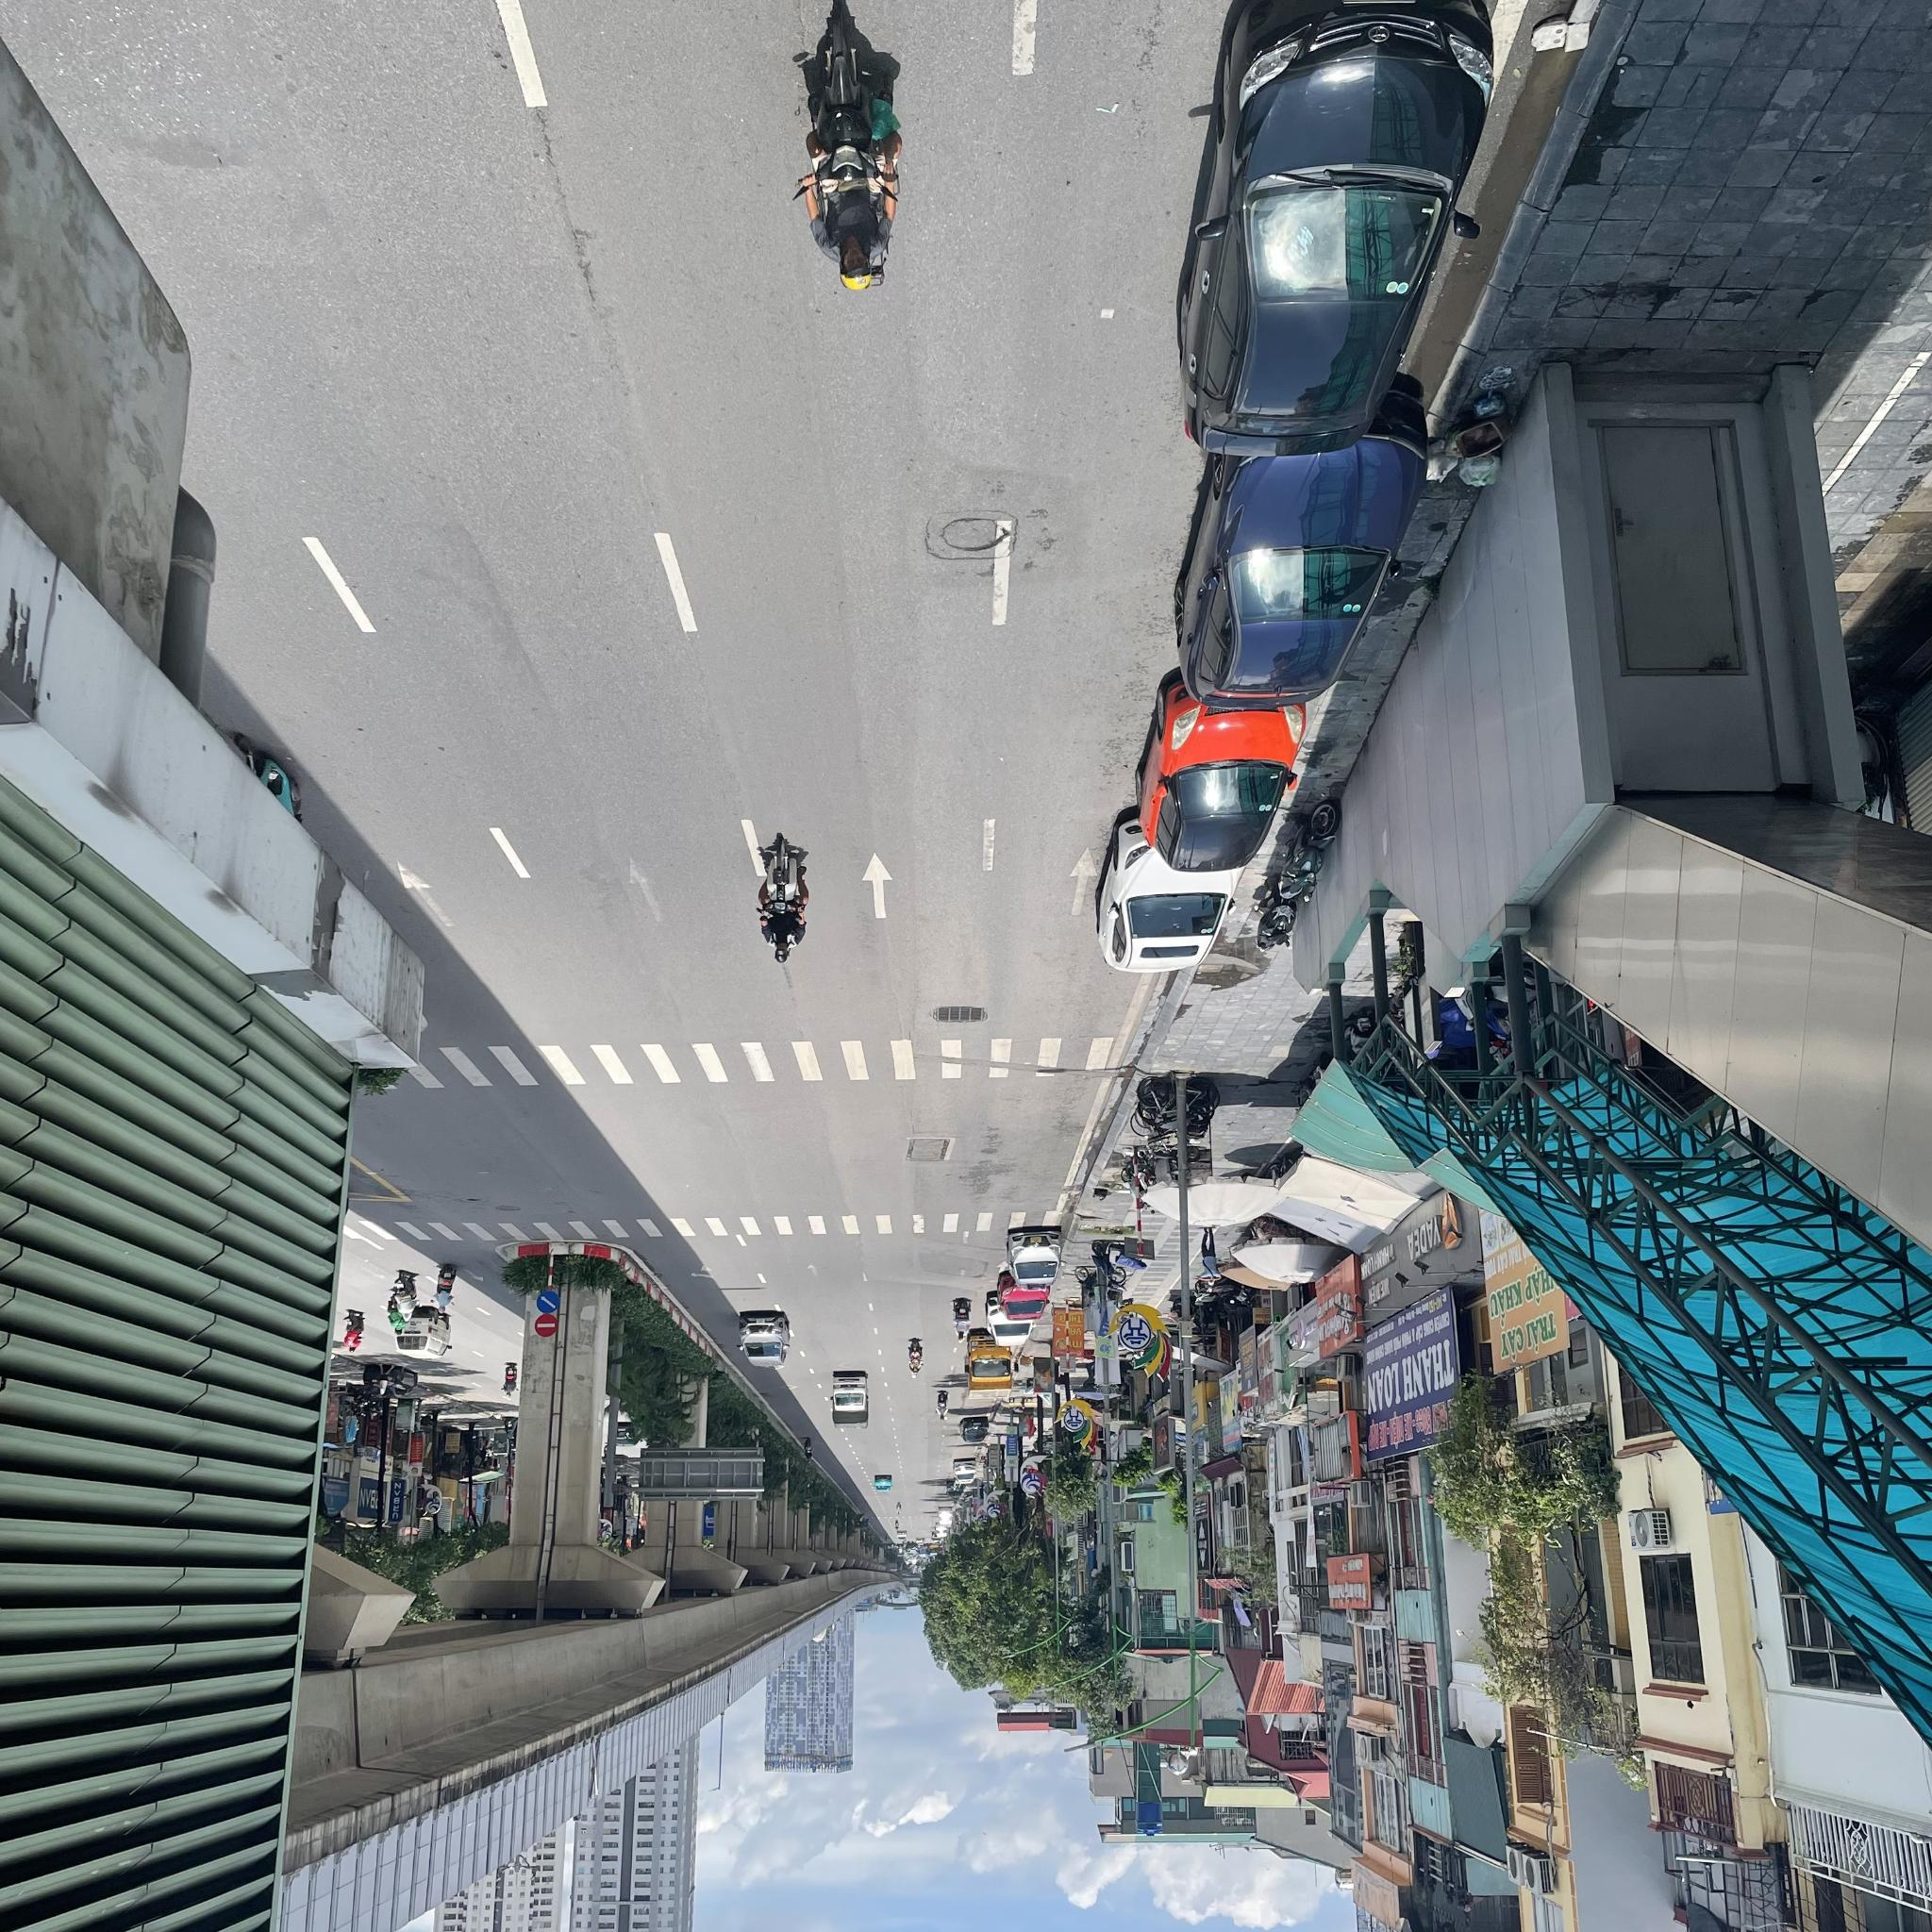car: (1175, 11, 1502, 432), (1182, 386, 1435, 708), (1138, 683, 1300, 869), (1100, 823, 1240, 968), (738, 1315, 791, 1366), (1010, 1231, 1062, 1283), (830, 1371, 872, 1430), (959, 1419, 989, 1442), (954, 1460, 977, 1484), (874, 1476, 892, 1491)
motobike: (789, 0, 901, 292), (755, 826, 809, 962), (950, 1300, 973, 1343), (906, 1338, 925, 1378), (936, 1394, 948, 1417), (803, 1440, 812, 1461), (893, 1502, 904, 1514)
